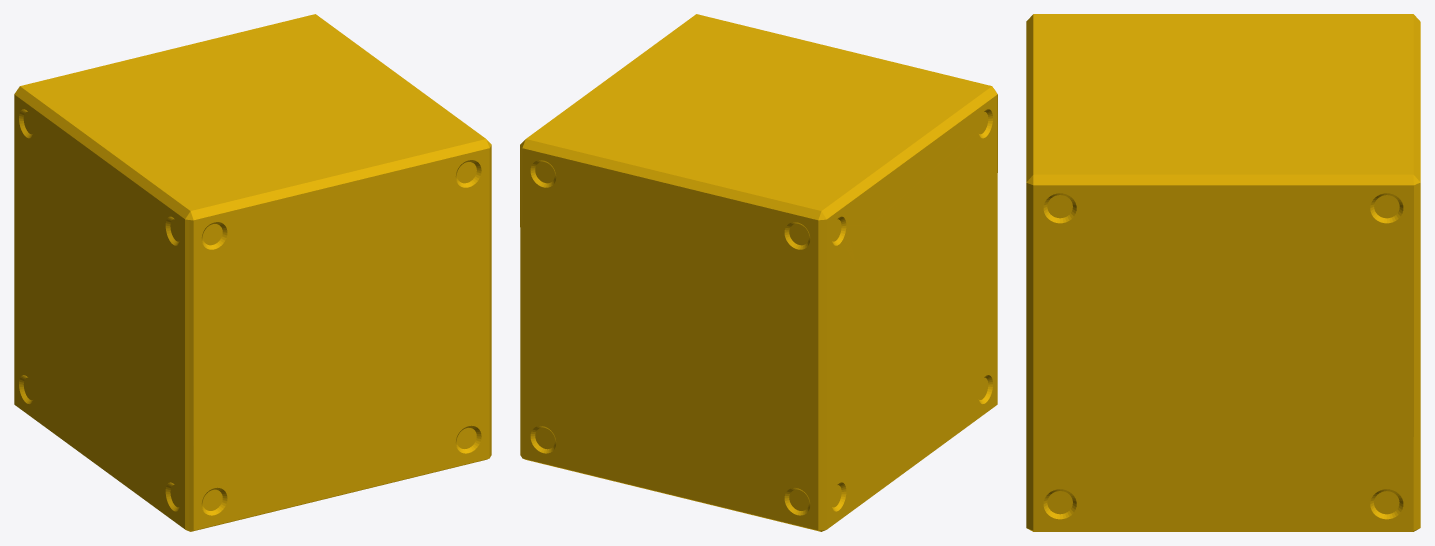
The model's file is HatenaBoxDeactive.fbx.
3 views of the same model, side by side, from view 1: azimuth 30°, elevation 25°; view 2: azimuth 150°, elevation 25°; view 3: azimuth 270°, elevation 25° (orthographic). The views are drawn at different scales.
Parts seen in each view (by area): view 1: Cube; view 2: Cube; view 3: Cube.
Part boxes in pixels (x1,y1,x2,y2): Cube: (14, 14, 491, 531); Cube: (520, 14, 997, 531); Cube: (1026, 14, 1420, 531).
Bounding box in the file's own units: 498 × 498 × 498.
